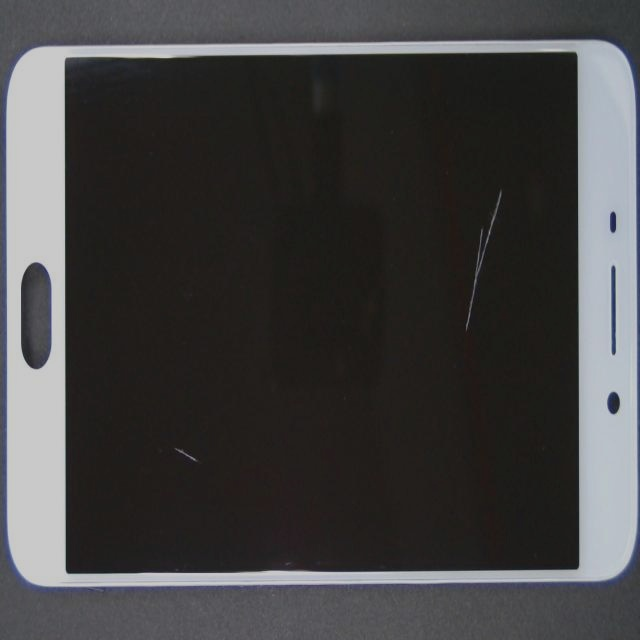scratch: (266, 5, 640, 343), (122, 239, 294, 640)
